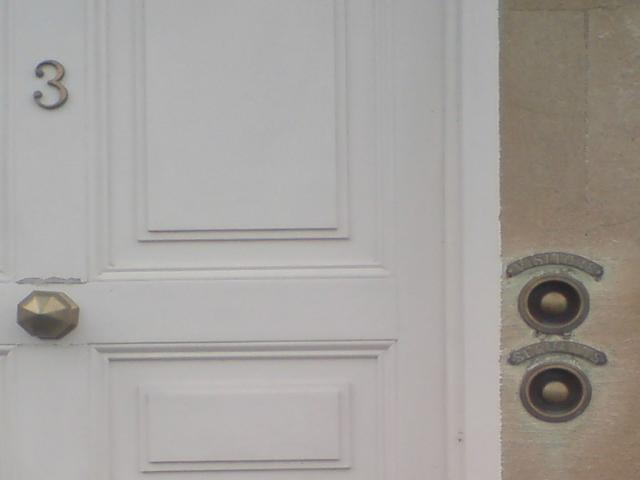Door-handle: (15, 290, 78, 341), (18, 288, 79, 340)
